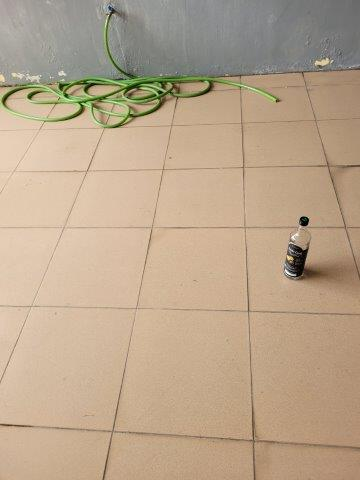botolkaca: (285, 217, 310, 278)
